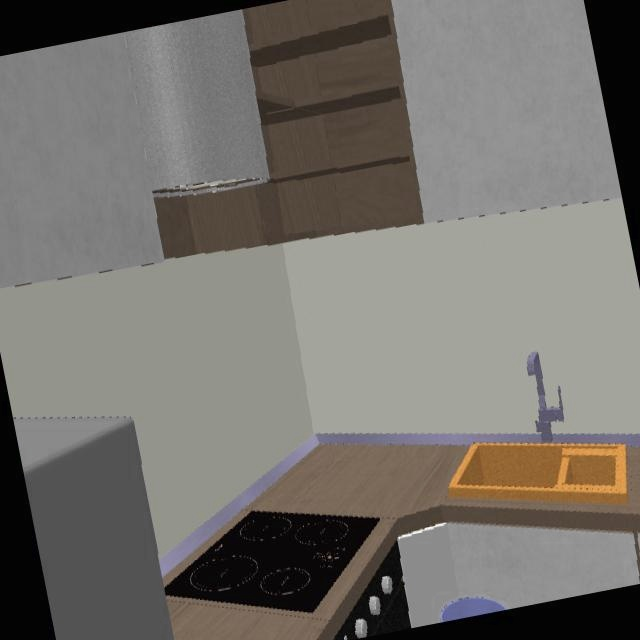microwave: (13, 416, 175, 640)
oven: (334, 550, 412, 640)
shelf: (126, 0, 426, 259)
sink: (448, 444, 630, 512)
stove: (166, 513, 380, 610)
